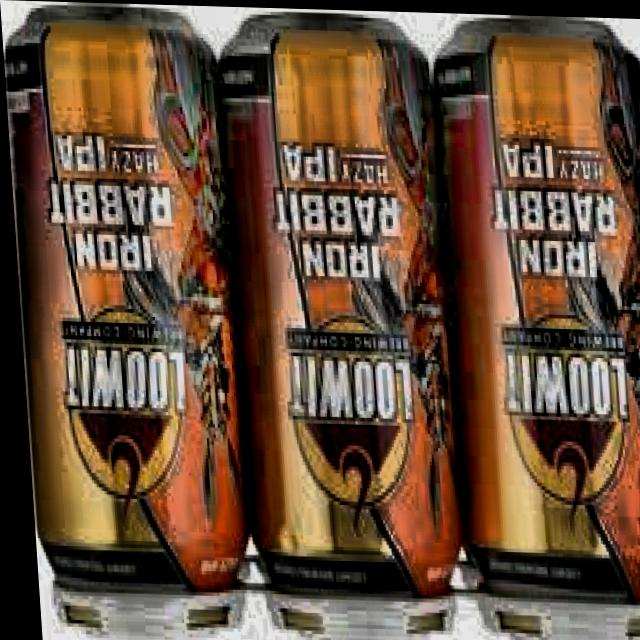can: (0, 0, 249, 640), (214, 5, 459, 640), (424, 10, 640, 640)
